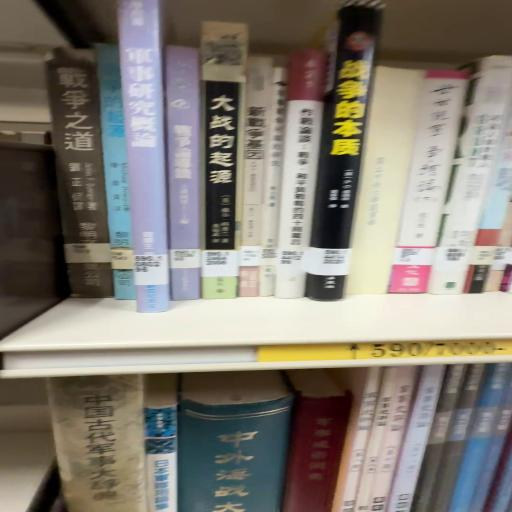backward: (346, 65, 424, 295)
book: (344, 73, 424, 299), (393, 76, 469, 299), (119, 0, 168, 307), (169, 48, 206, 298)
